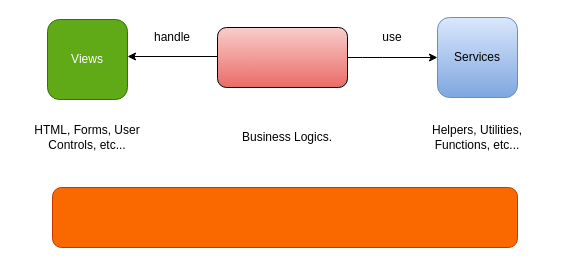
Some shapes in this 564 by 265 pixel diagram are drawn without their labels. Each missing label, with the box of its shape:
Handlers: (216, 26, 348, 88)
Software: (52, 186, 518, 248)
